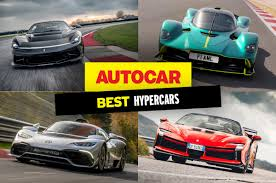car: (157, 5, 260, 76), (154, 109, 260, 174), (12, 119, 129, 166), (11, 19, 86, 66)
